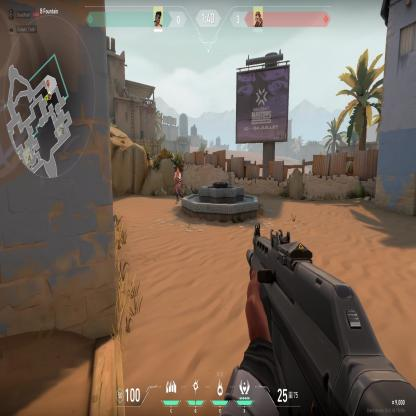enemy: (174, 166, 184, 204)
